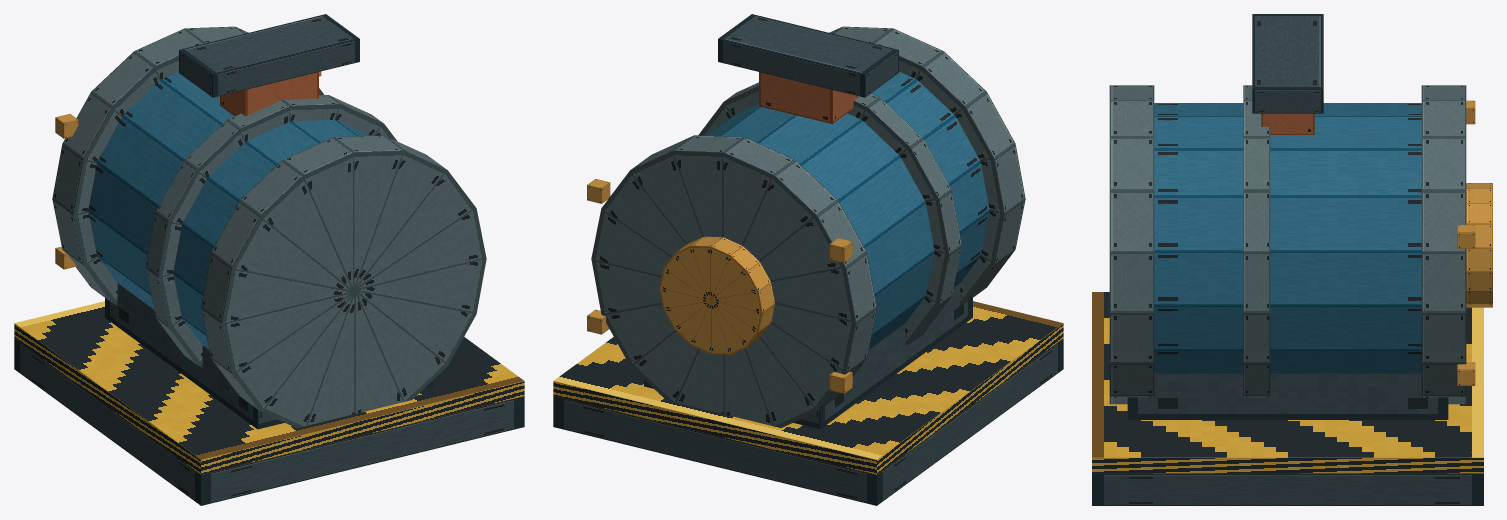
Rendered from detail_turbine.obj.
3 renders of one model, left to right at view 1: azimuth 30°, elevation 25°; view 2: azimuth 150°, elevation 25°; view 3: azimuth 270°, elevation 25°, orthographic. The views are drawn at different scales.
Size of the model in its own units: 2.75 by 2.88 by 2.81.
